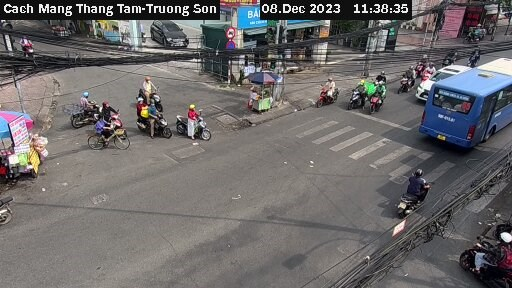bus: (418, 54, 512, 145)
car: (414, 62, 467, 100), (147, 20, 187, 48)
motorbike: (466, 229, 512, 284), (388, 172, 431, 220), (171, 104, 214, 146), (130, 103, 171, 139), (65, 95, 97, 126), (312, 81, 343, 113), (132, 77, 169, 103), (96, 101, 126, 131), (346, 84, 366, 112), (394, 67, 415, 93), (16, 36, 38, 60), (365, 87, 386, 111), (465, 48, 487, 67), (370, 67, 387, 90)
